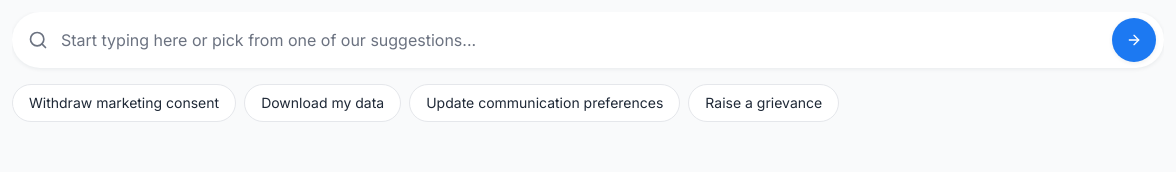
Test: PrivacySearch › fills the field when a suggestion chip is clicked
Click the button "Withdraw marketing consent" at (124, 103), box [12,84,236,122]
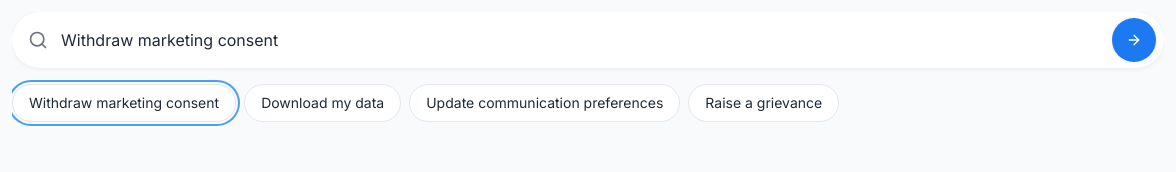
Expected: the field named "Search your privacy rights" holds "Withdraw marketing consent", [12,12,1164,68]
